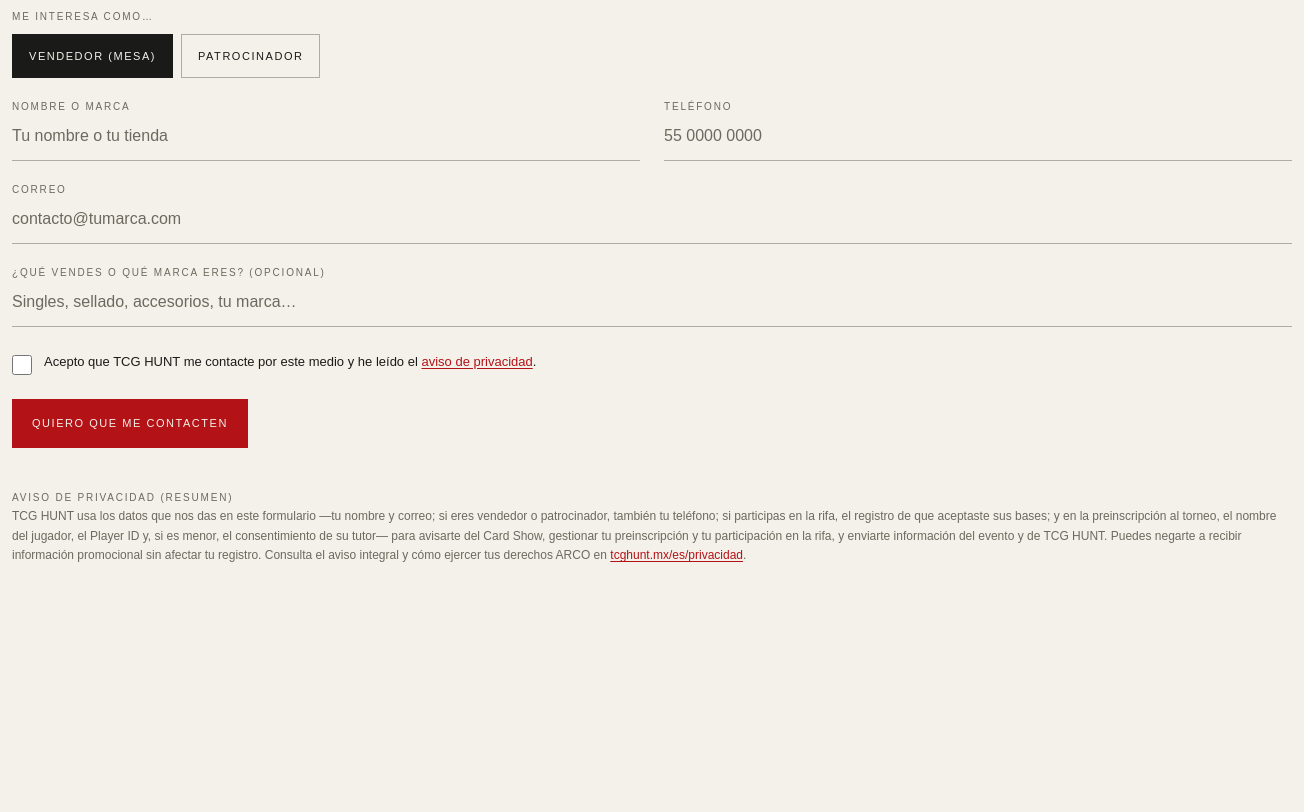
Test: MerchantSponsorForm · vendedor/patrocinador (type=merchant|sponsor) › teléfono inválido ⇒ error de campo, no hace POST
The image size is (1304, 812).
Type "Mi Tienda" into the field labelled "Nombre o marca" at (326, 136), box x1=12 y1=124 x2=640 y2=148
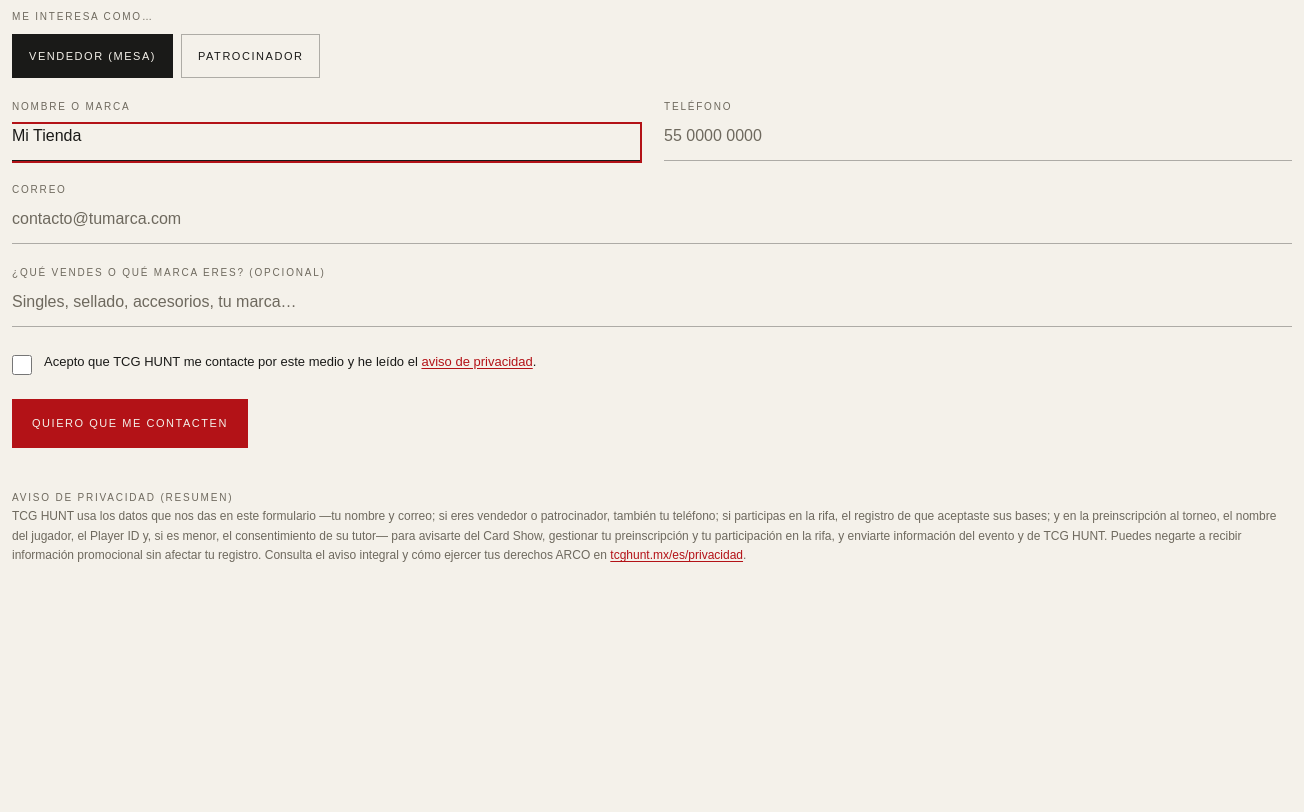
Type "123" into the field labelled "Teléfono" at (978, 136), box x1=664 y1=124 x2=1292 y2=148
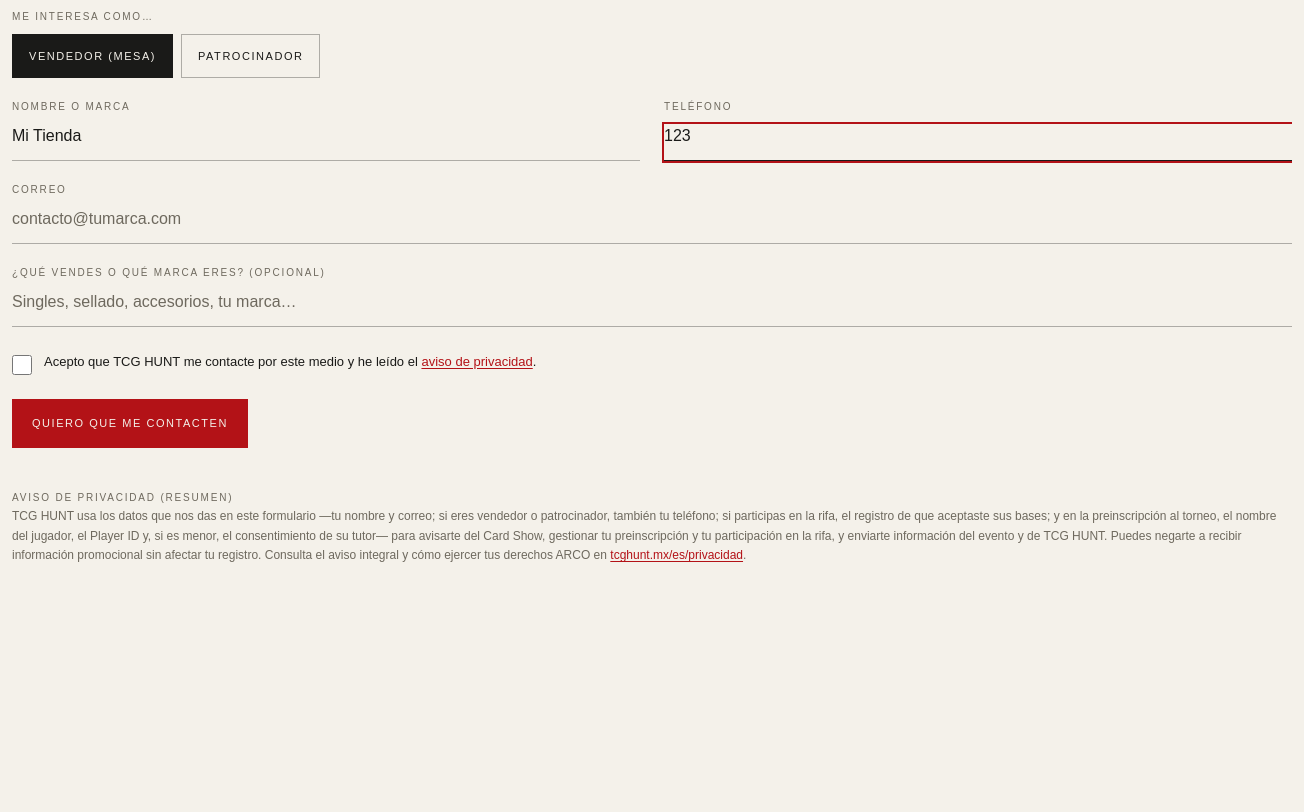
Type "tienda@correo.com" into the field labelled "Correo" at (652, 219), box x1=12 y1=207 x2=1292 y2=231
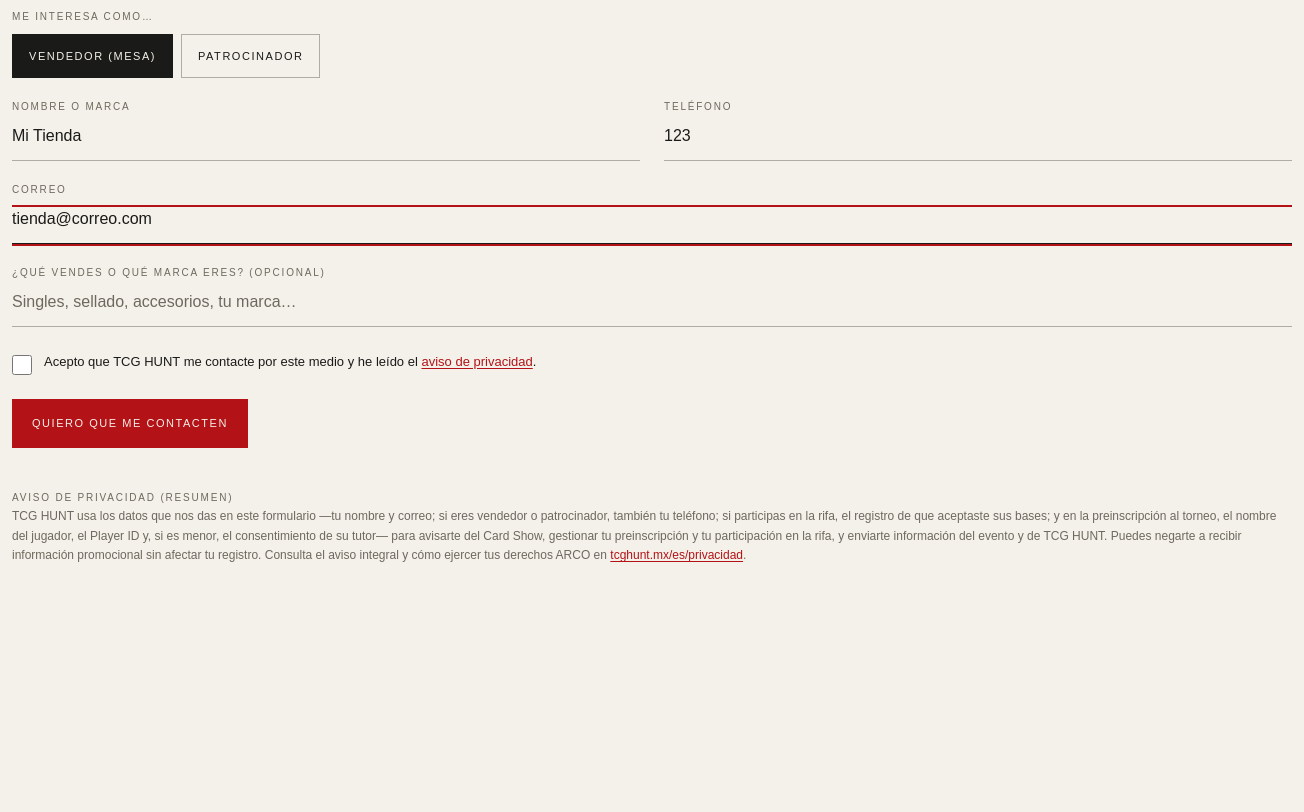
Click the checkbox labelled "Acepto que TCG HUNT" at (22, 365), box x1=12 y1=355 x2=32 y2=375
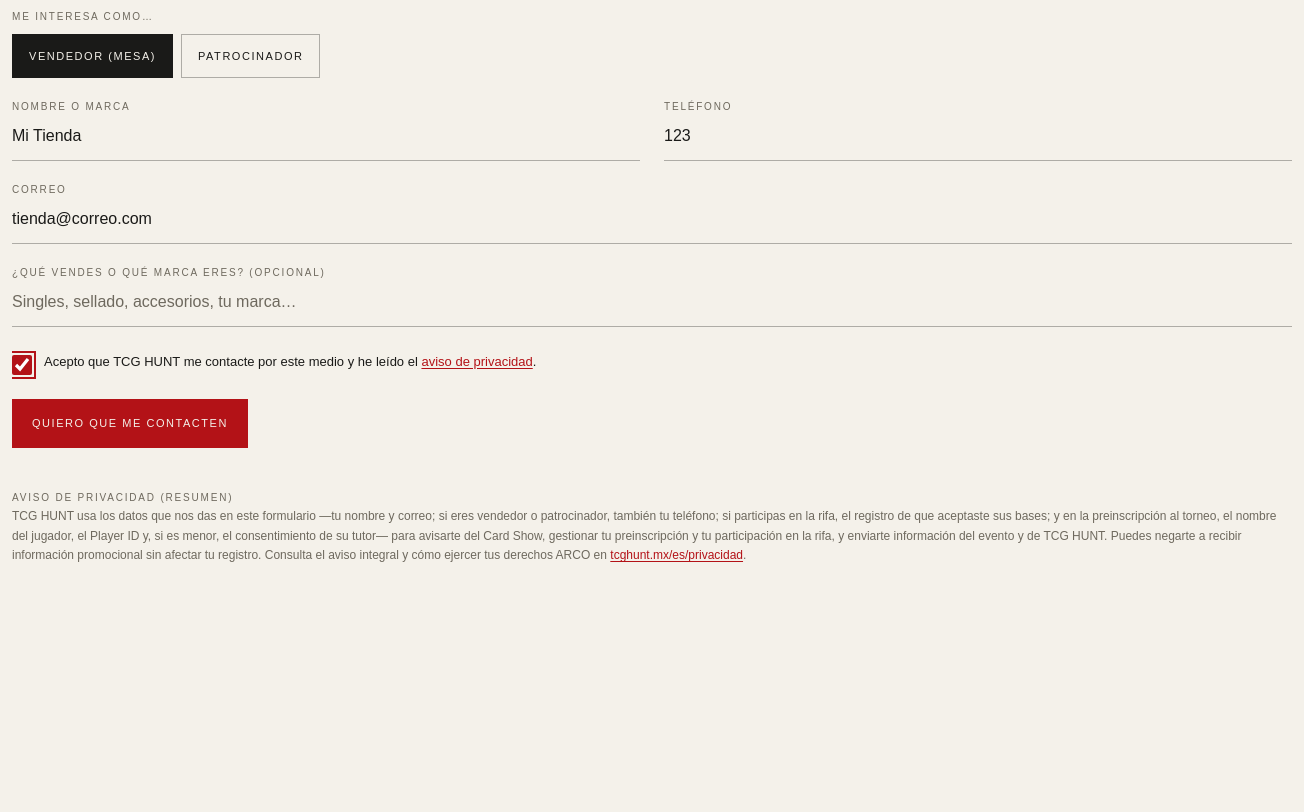
Click the button "Quiero que me contacten" at (130, 423), box x1=12 y1=399 x2=248 y2=448
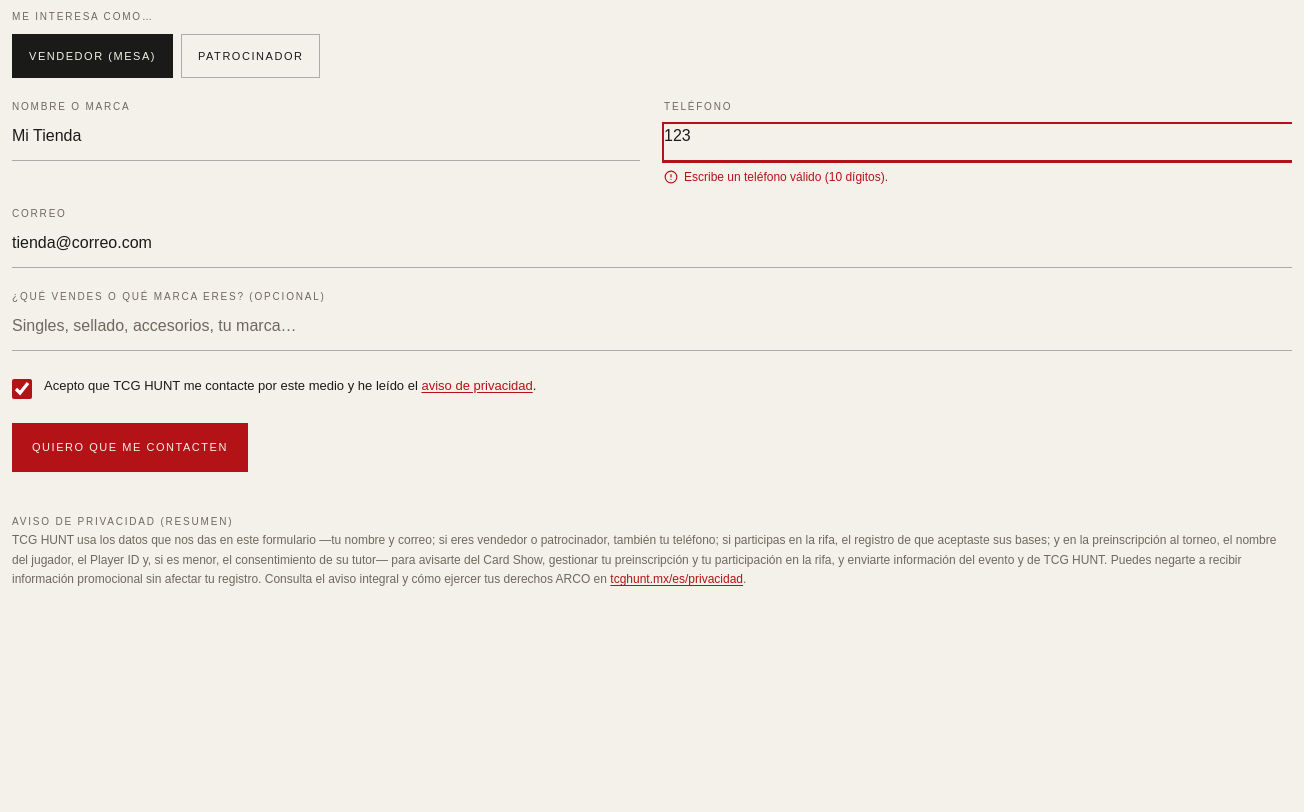
Result: the text "Escribe un teléfono válido (10 dígitos)." is shown at x1=664 y1=170 x2=888 y2=184
